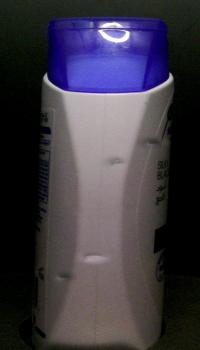dent_unacceptable: (76, 244, 117, 267), (102, 152, 136, 176), (49, 269, 86, 285), (132, 135, 166, 150)
